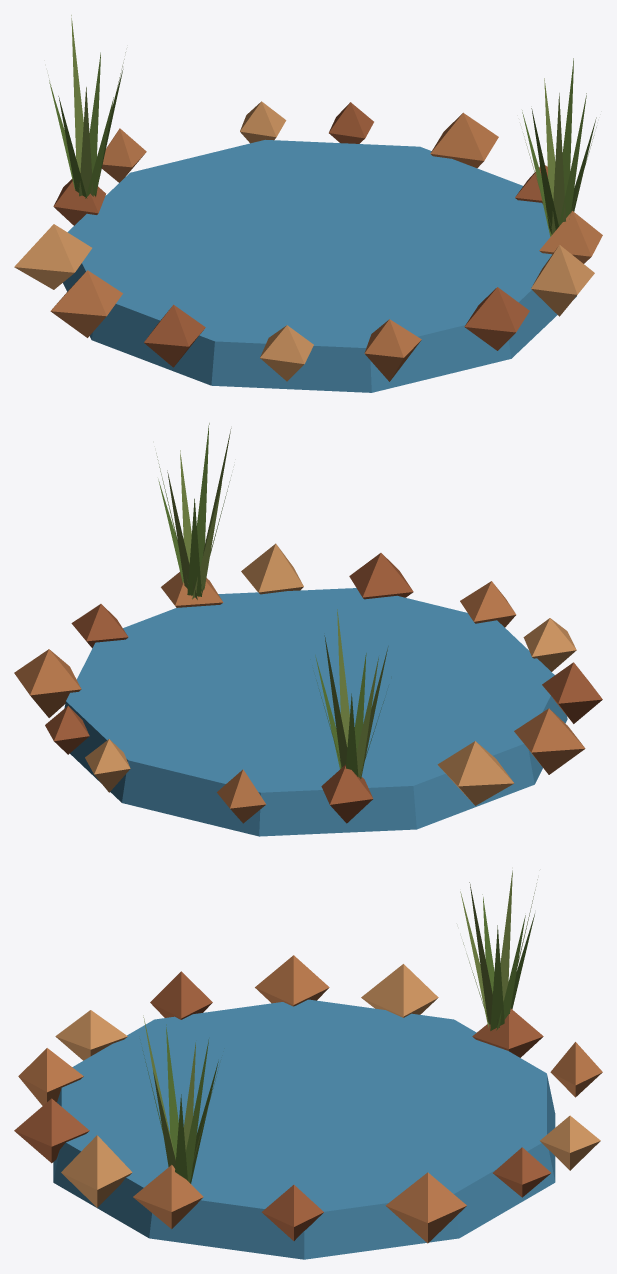
Rendered from oasis_pond.glb.
3 renders of one model, top to bottom at view 1: azimuth 30°, elevation 25°; view 2: azimuth 150°, elevation 25°; view 3: azimuth 270°, elevation 25°, orthographic. The views are drawn at different scales.
Visible parts, largest first — view 1: oasis_pond2; view 2: oasis_pond2; view 3: oasis_pond2.
Boxes of the visible parts, x1=… form: oasis_pond2: x1=14, y1=15, x2=602, y2=392; oasis_pond2: x1=14, y1=423, x2=602, y2=836; oasis_pond2: x1=14, y1=870, x2=602, y2=1259.
Bounding box in the file's own units: 6.25 × 2.48 × 6.03.
